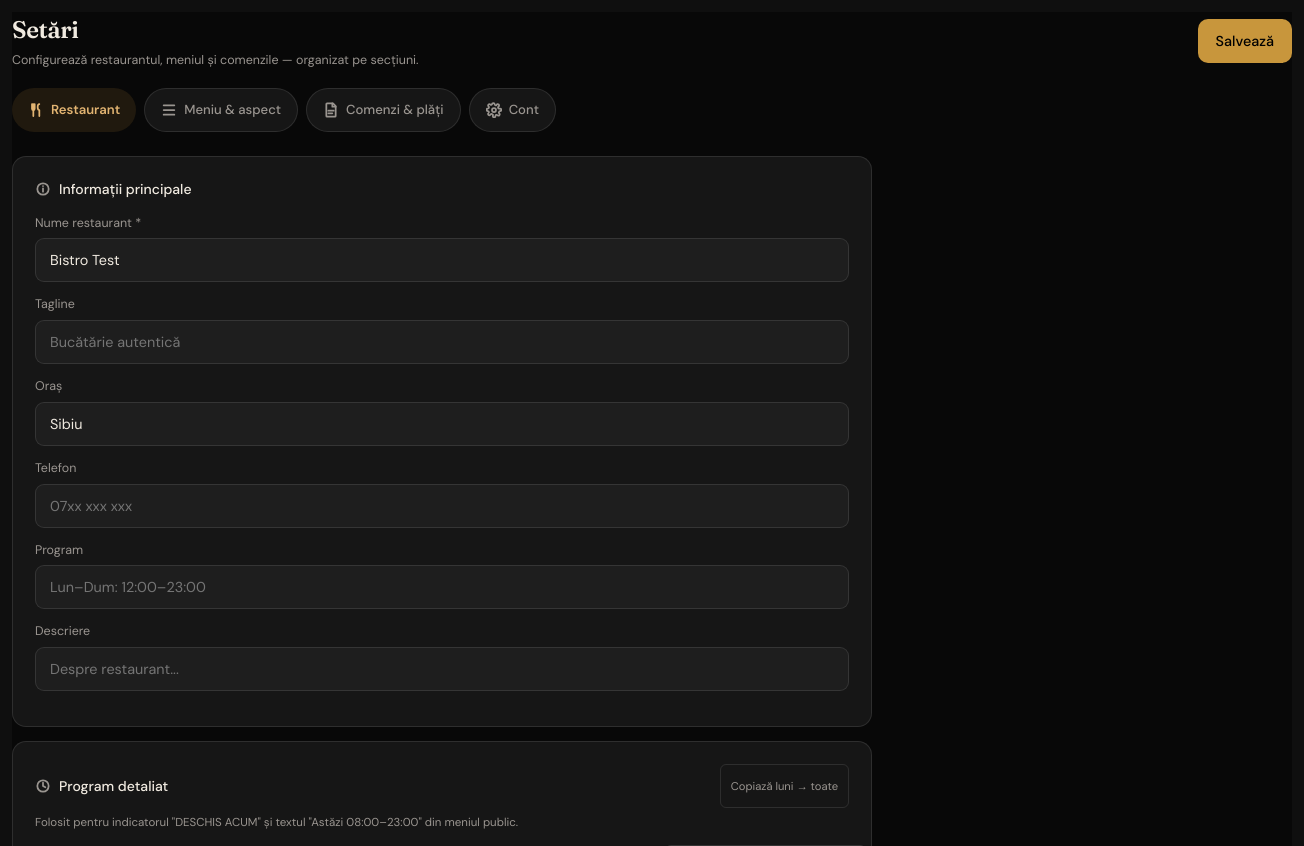
Scenario: SettingsTab — ridicarea pe planul restaurantului › PS2: pe Meniu + Comenzi ridicarea pornește și arată opțiunile
The width and height of the screenshot is (1304, 846).
What coordinates should you click on to do the following:
click the tab "Comenzi & plăți"
I would click on:
 (383, 110)
Its box is x1=306 y1=88 x2=461 y2=132.
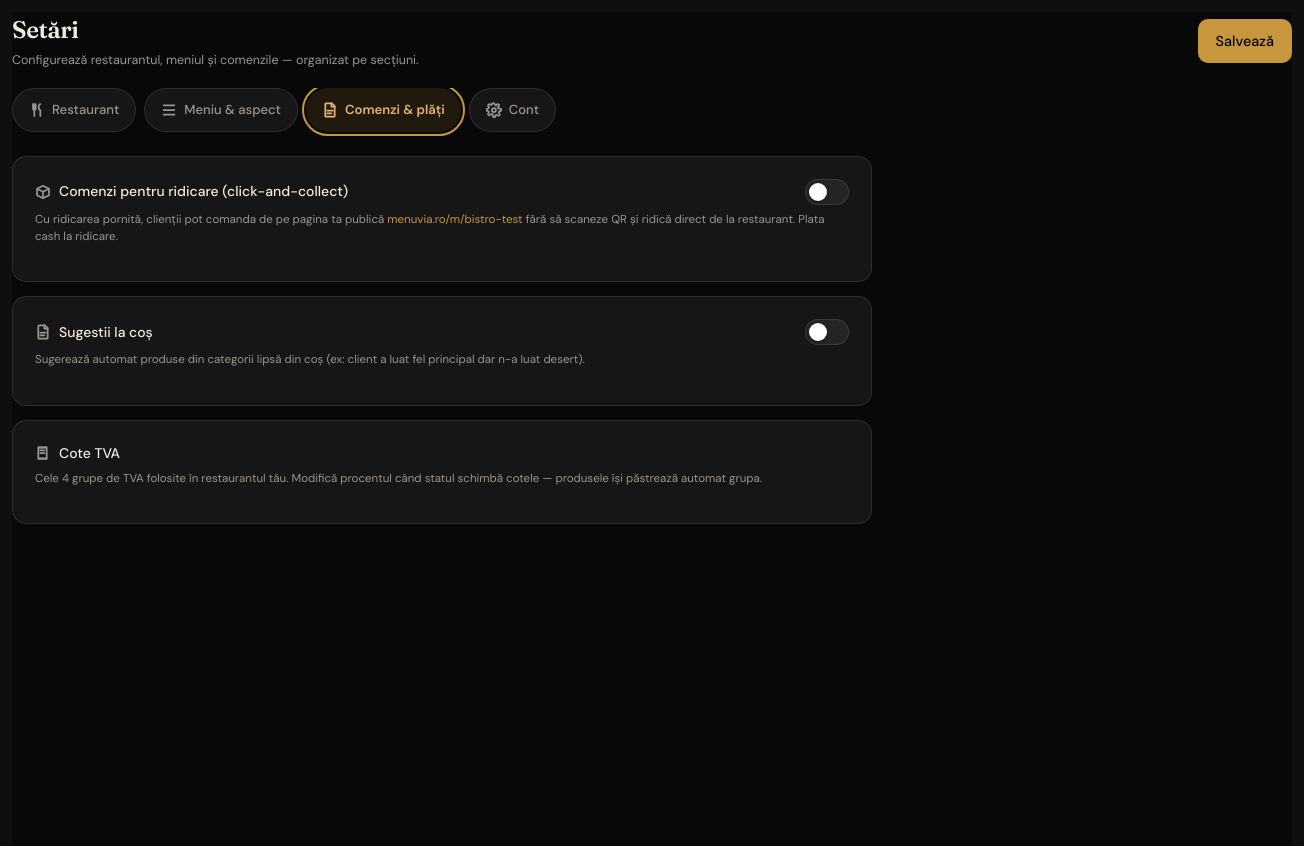
Expected: the switch named "Comenzi pentru ridicare" is enabled
Expected: the text "clienții pot comanda" is shown, x1=35 y1=212 x2=384 y2=227
What coordinates should you click on to do the following:
click the switch named "Comenzi pentru ridicare"
I would click on:
 (827, 192)
Its box is x1=805 y1=179 x2=849 y2=205.
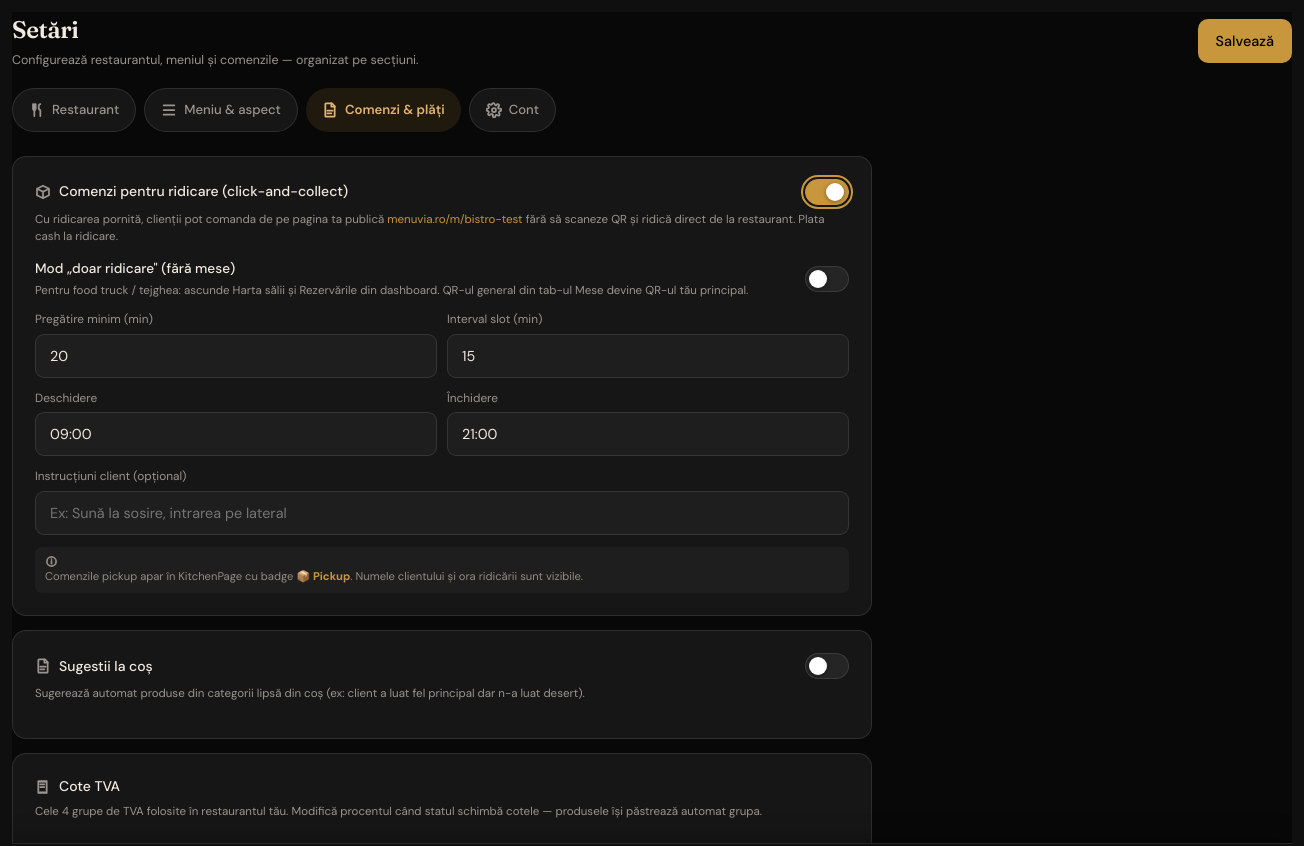
Expected: the switch named "doar ridicare" is shown, x1=805 y1=266 x2=849 y2=292
